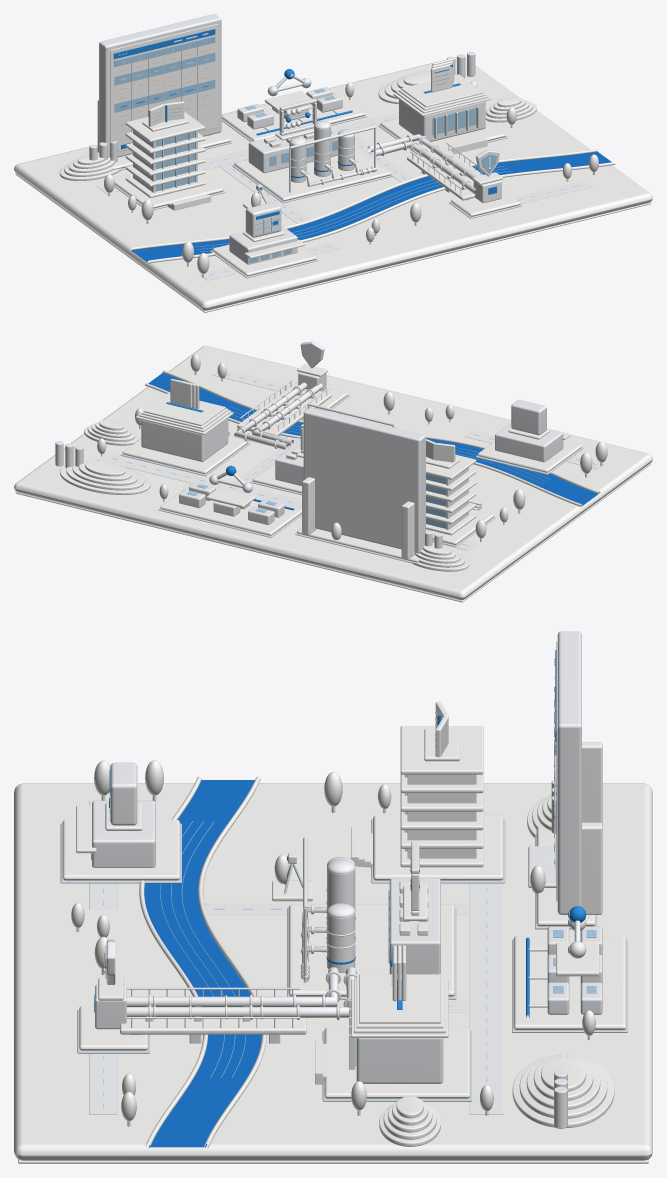
Rendered from white-sandbox.glb.
3 renders of one model, top to bottom at view 1: azimuth 30°, elevation 25°; view 2: azimuth 150°, elevation 25°; view 3: azimuth 270°, elevation 25°, orthographic. The views are drawn at different scales.
Parts seen in each view (by area): view 1: zone_land, zone_table, zone_price, zone_knowledge, zone_report, zone_risk, zone_import, zone_review; view 2: zone_land, zone_table, zone_report, zone_review, zone_knowledge, zone_risk, zone_import, zone_price; view 3: zone_land, zone_knowledge, zone_report, zone_price, zone_table, zone_risk, zone_review, zone_import.
Part boxes in pixels (x1,y1,x2,y2): zone_land: (14,51,652,312); zone_table: (97,14,232,170); zone_price: (232,98,392,203); zone_knowledge: (114,101,225,210); zone_report: (378,58,507,154); zone_risk: (367,134,522,218); zone_import: (210,202,318,278); zone_review: (221,69,366,141); zone_land: (14,346,652,602); zone_table: (295,407,425,563); zone_report: (120,379,250,476); zone_review: (158,465,301,537); zone_knowledge: (426,439,495,546); zone_risk: (234,341,349,449); zone_import: (476,399,583,474); zone_price: (250,403,394,495); zone_land: (14,760,652,1163); zone_knowledge: (351,701,505,883); zone_report: (315,945,471,1101); zone_price: (287,837,456,999); zone_table: (528,631,602,929); zone_risk: (77,939,357,1053); zone_review: (512,906,627,1032); zone_import: (60,762,181,883).
Size of the model in its own units: 34.04 by 9.56 by 25.
